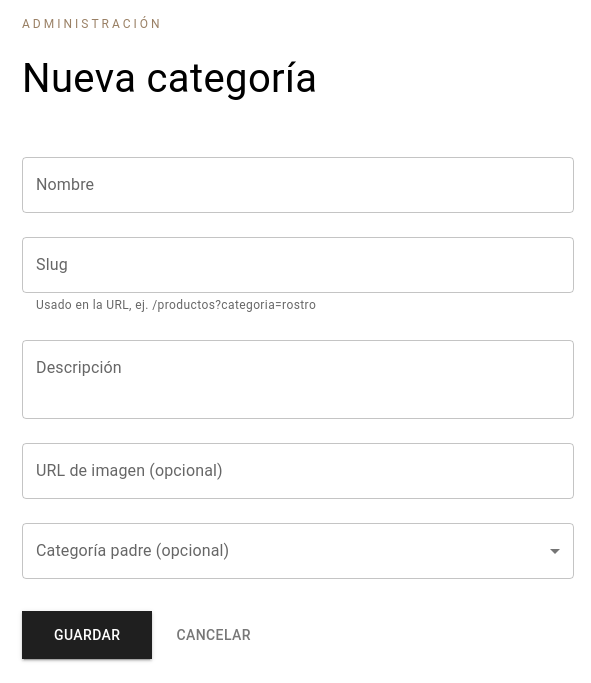
Scenario: AdminCategoryForm › shows the backend error message when saving fails
Step 1. Type "Labios" into the field labelled "Nombre" → (298, 185), box x1=22 y1=157 x2=574 y2=213
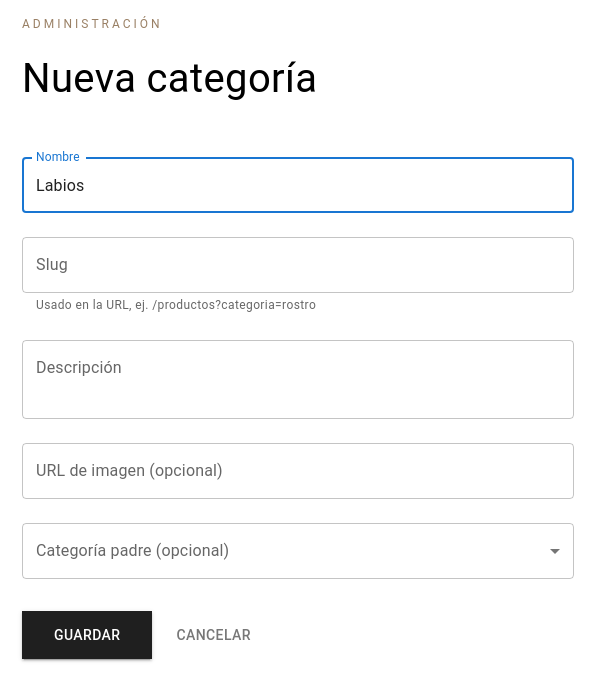
Step 2. Type "labios" into the field labelled "Slug" → (298, 265), box x1=22 y1=237 x2=574 y2=293
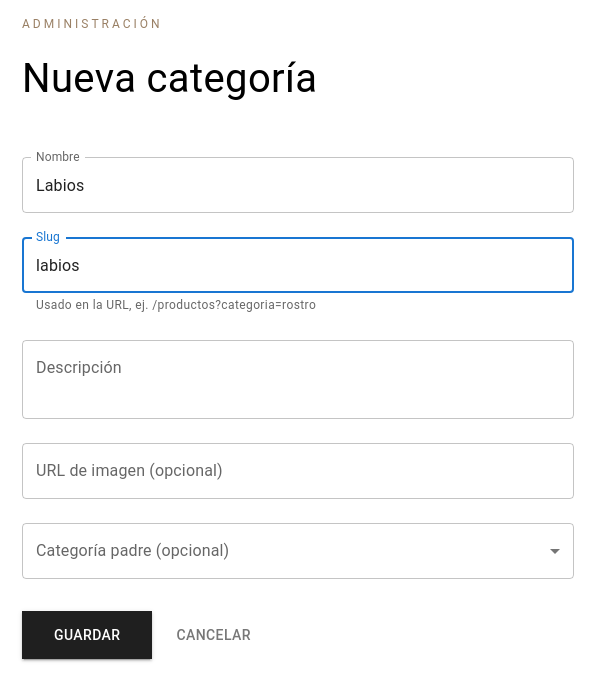
Step 3. Click the button "Guardar" → (87, 635), box x1=22 y1=611 x2=152 y2=659
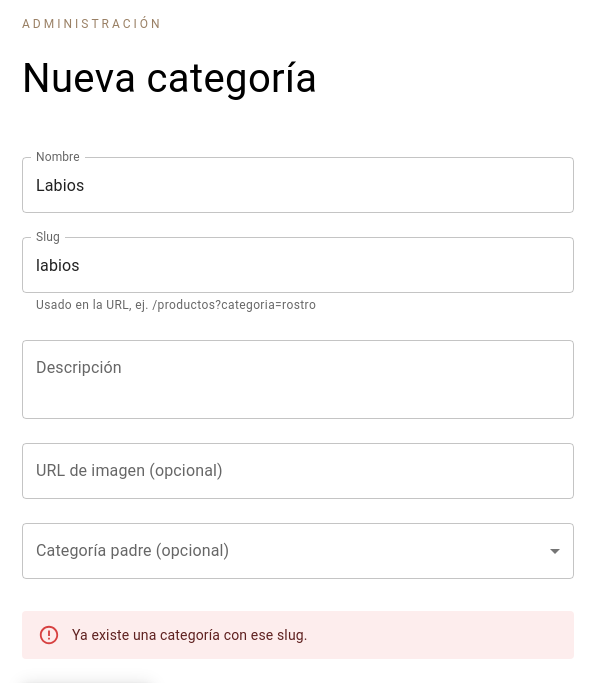
Now the text "Ya existe una categoría con ese slug." is shown, box x1=72 y1=627 x2=308 y2=643
